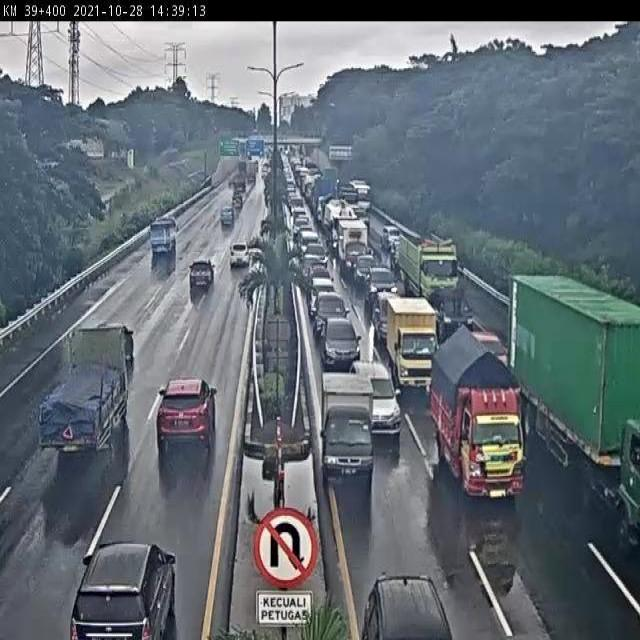big truck: (507, 269, 640, 512), (396, 233, 464, 331)
car: (70, 530, 179, 640), (359, 550, 463, 640), (149, 369, 228, 474), (351, 357, 398, 431), (323, 315, 357, 364), (317, 296, 349, 331), (187, 251, 219, 285), (310, 278, 340, 314), (222, 244, 248, 279), (368, 267, 392, 300), (216, 209, 233, 235)
small truck: (425, 311, 520, 492), (43, 315, 141, 472), (326, 368, 374, 480), (383, 295, 439, 389), (145, 214, 175, 270)
